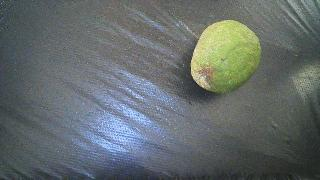DESECHO: (191, 20, 261, 93)
